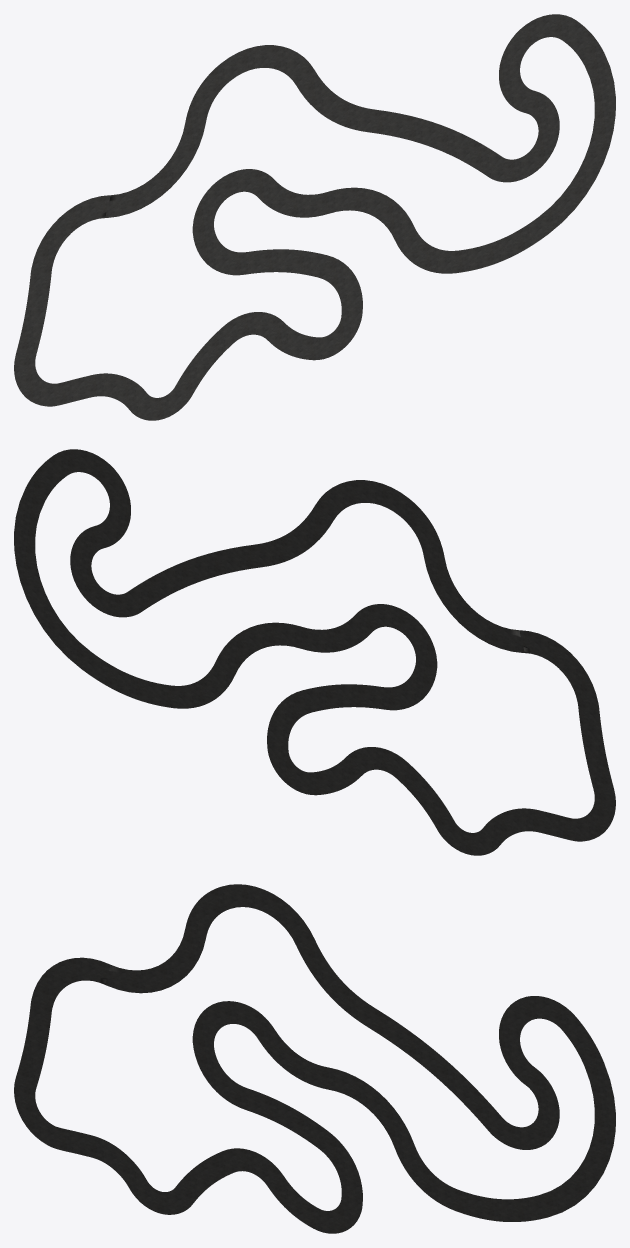
Rendered from track17_road.obj.
3 renders of one model, top to bottom at view 1: azimuth 30°, elevation 25°; view 2: azimuth 150°, elevation 25°; view 3: azimuth 330°, elevation 25°, orthographic.
Parts seen in each view (by area): view 1: road_0_curve_; view 2: road_0_curve_; view 3: road_0_curve_.
Part boxes in pixels (x1=…): road_0_curve_: x1=14, y1=14, x2=615, y2=420; road_0_curve_: x1=14, y1=449, x2=615, y2=855; road_0_curve_: x1=14, y1=884, x2=615, y2=1233.
Size of the model in its own units: 46.4 by 25.79 by 0.
1 material, 1 textured.
